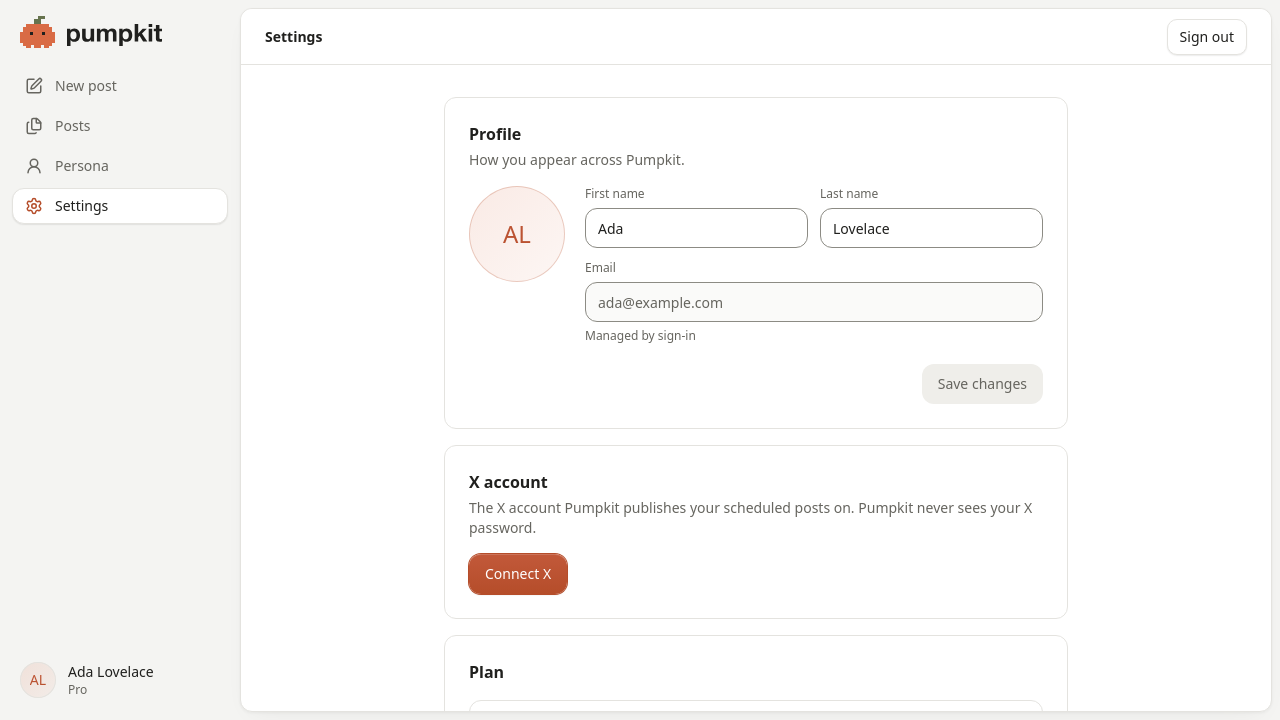
Test: Settings › Profile › saves a changed name and shows it in the user card
The image size is (1280, 720).
Replace the text in the field labelled "First name" with "Augusta " at (696, 228), box [585,208,808,248]
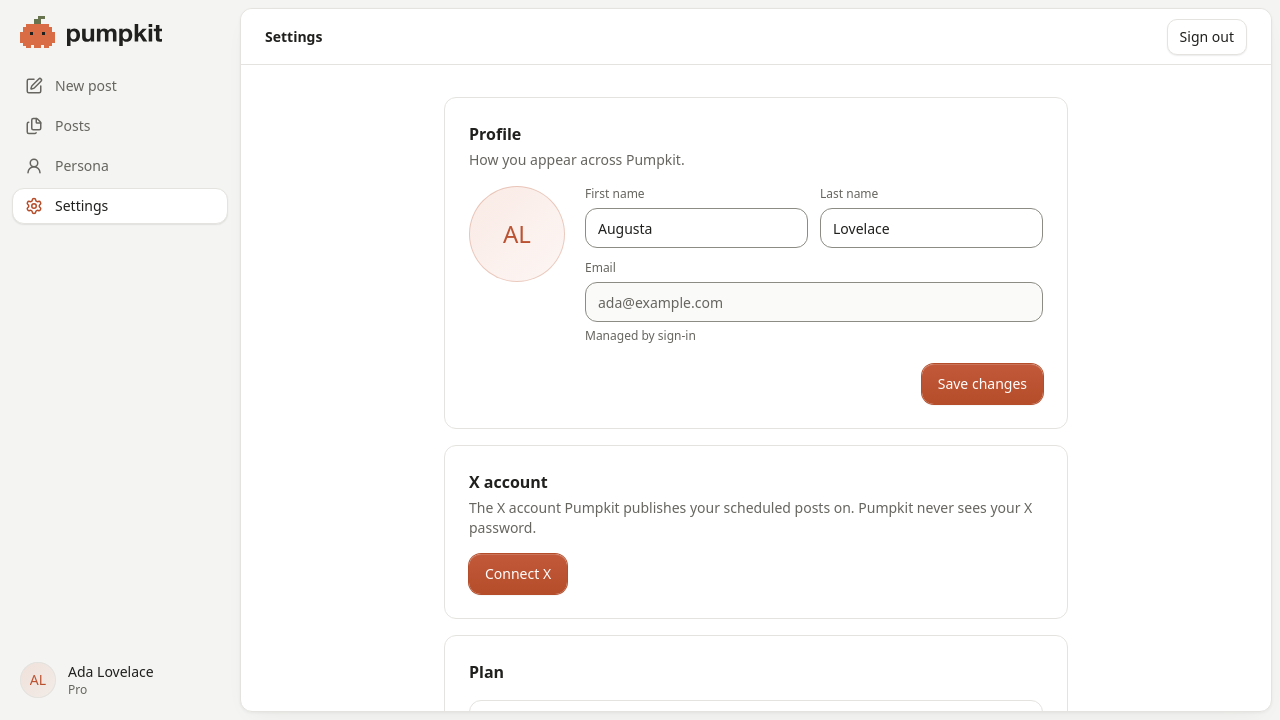
Click the button "Save changes".
click(982, 384)  # box [922,364,1043,404]
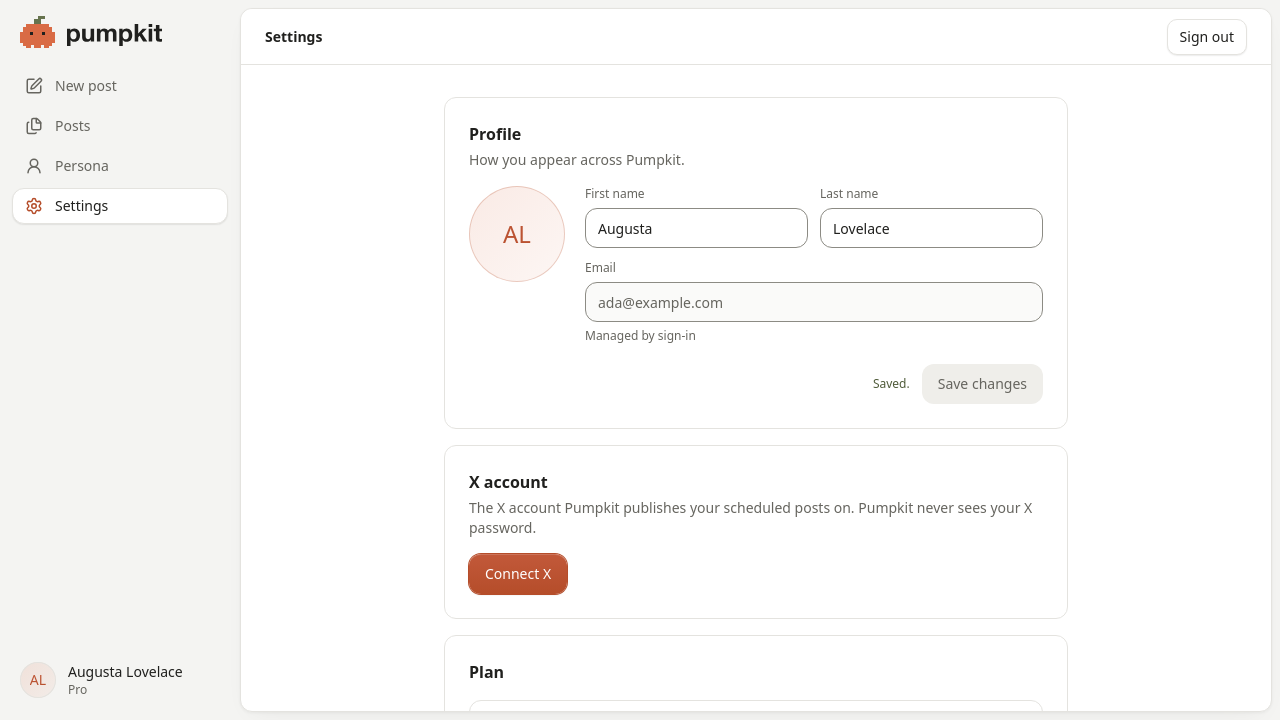
Check: the text "Saved." is shown, box [873,376,910,392]
Check: the text "Augusta Lovelace" is shown, box [68,662,183,681]
Check: the button "Save changes" is disabled, box [922,364,1043,404]
